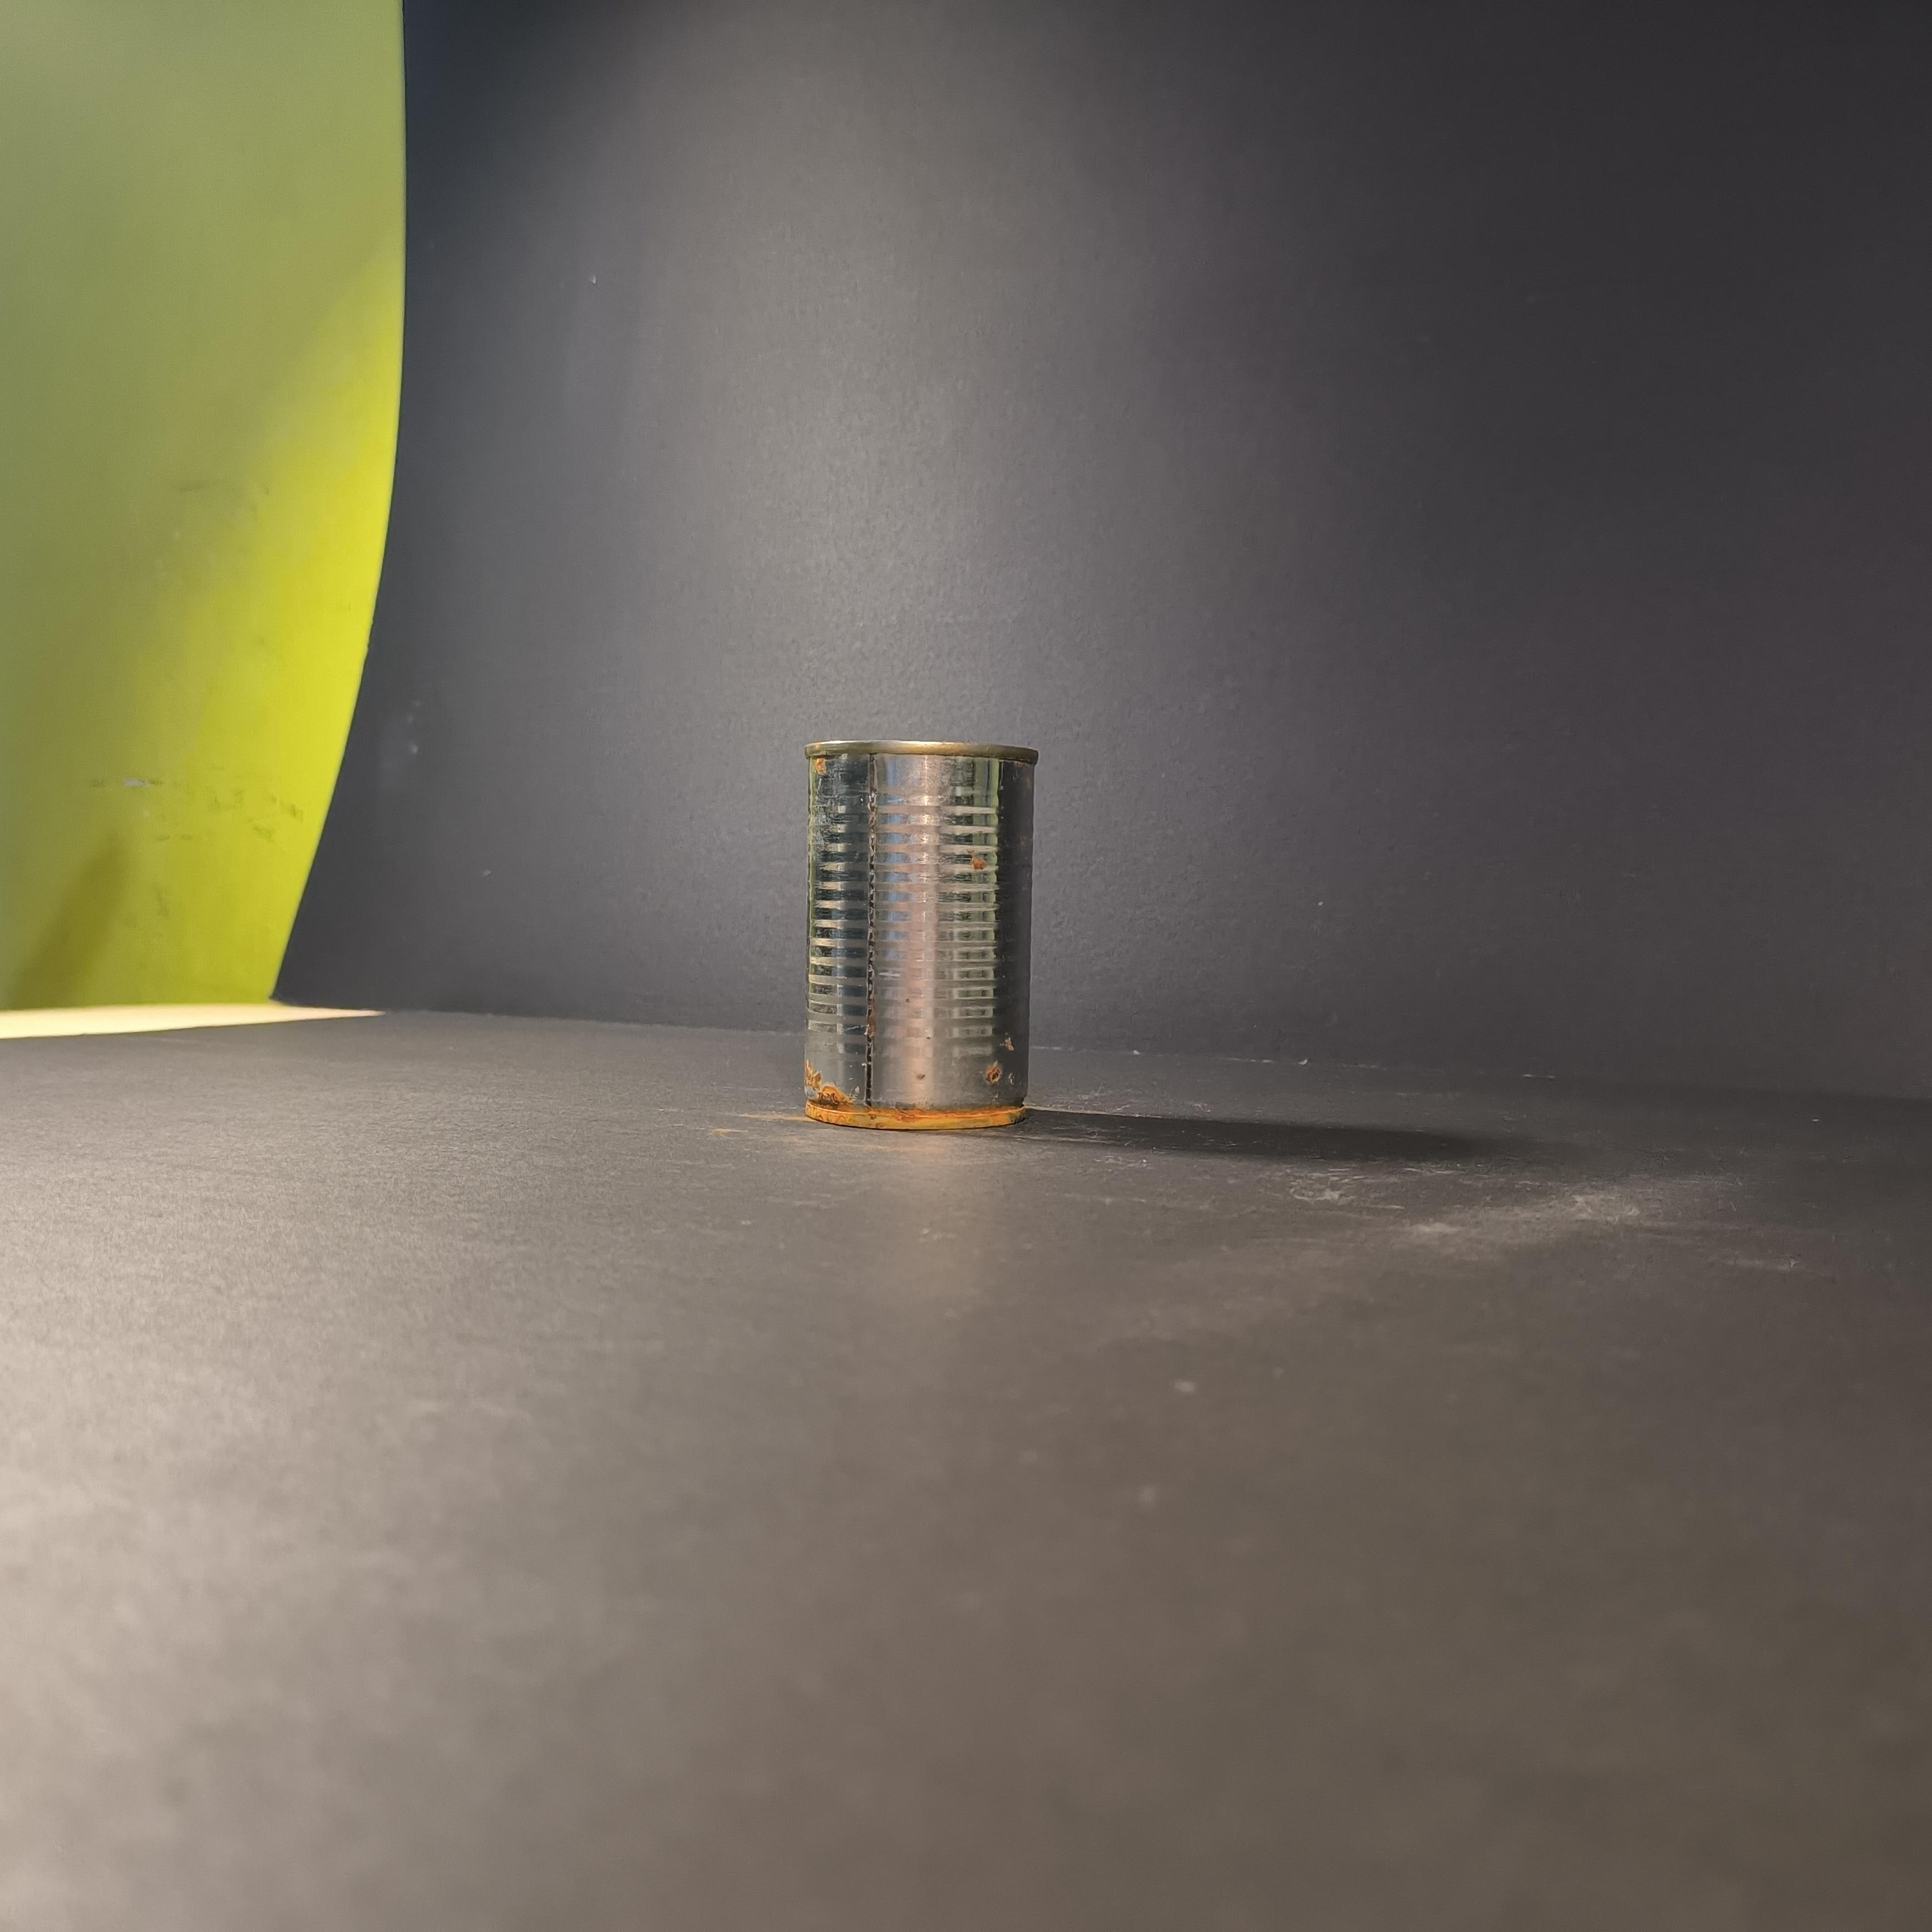Rusted: (793, 729, 1046, 1146)
